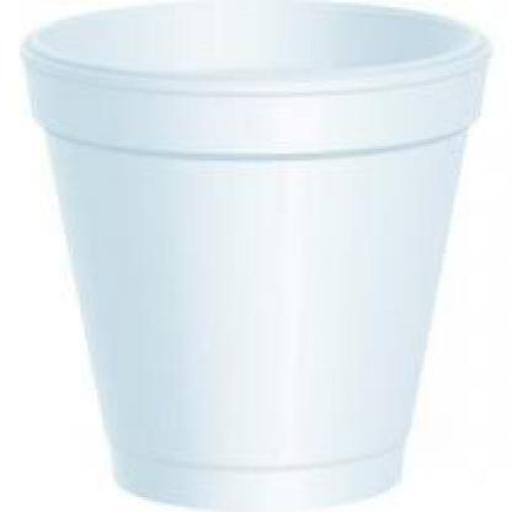paper: (19, 0, 486, 502)
